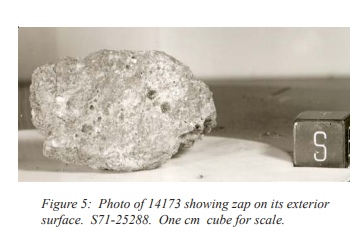Breccia: (32, 38, 254, 150)
